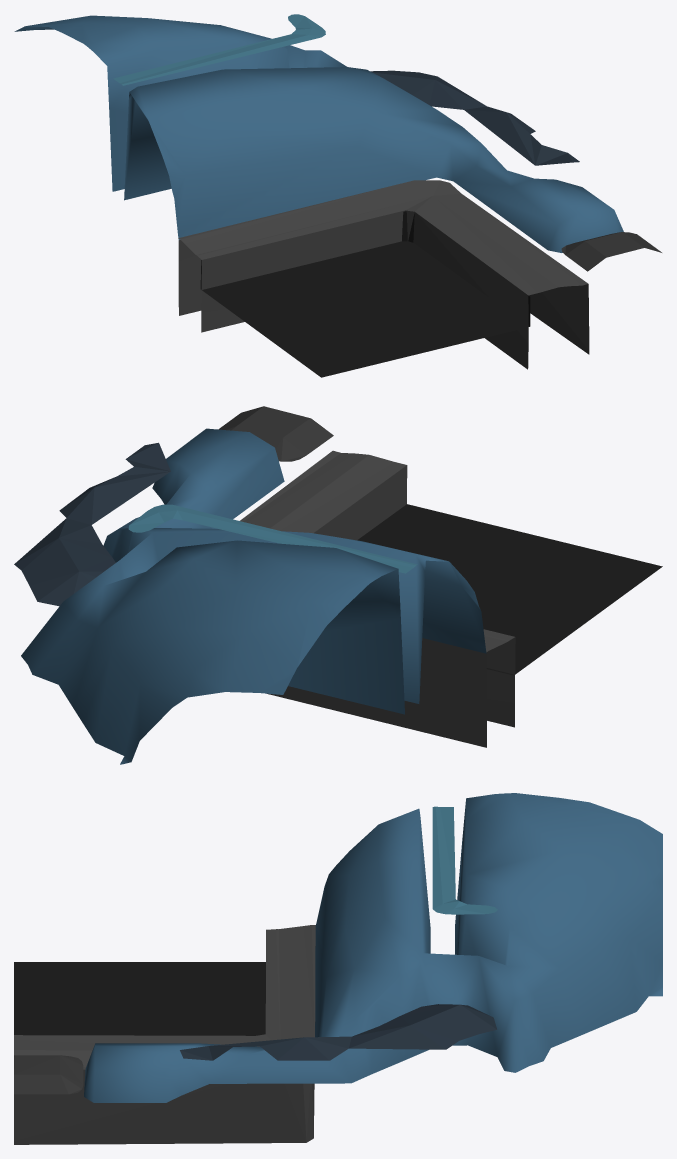
Rendered from newsho-53.glb.
The picture shows the model from 3 angles, top to bottom: view 1: azimuth 30°, elevation 25°; view 2: azimuth 150°, elevation 25°; view 3: azimuth 270°, elevation 25°; orthographic projection. The views are drawn at different scales.
Parts seen in each view (by area): view 1: newsho-53; view 2: newsho-53; view 3: newsho-53.
Part boxes in pixels (<box>): newsho-53: <box>14,14,661,377</box>; newsho-53: <box>14,406,662,764</box>; newsho-53: <box>14,793,662,1144</box>.
Size of the model in its own units: 1.5 by 0.8551 by 2.33.
